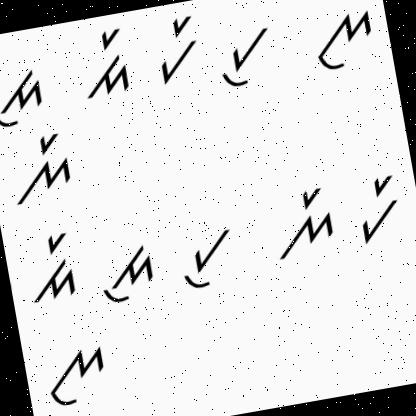dar: (61, 22, 136, 104), (19, 228, 83, 306)
daw: (89, 236, 159, 308), (0, 62, 52, 132)
nar: (262, 178, 340, 266), (5, 130, 80, 208)
naw: (300, 0, 386, 85), (38, 340, 119, 410)
par: (344, 170, 413, 250), (147, 7, 206, 88)
paw: (204, 15, 280, 96), (174, 222, 245, 292)
